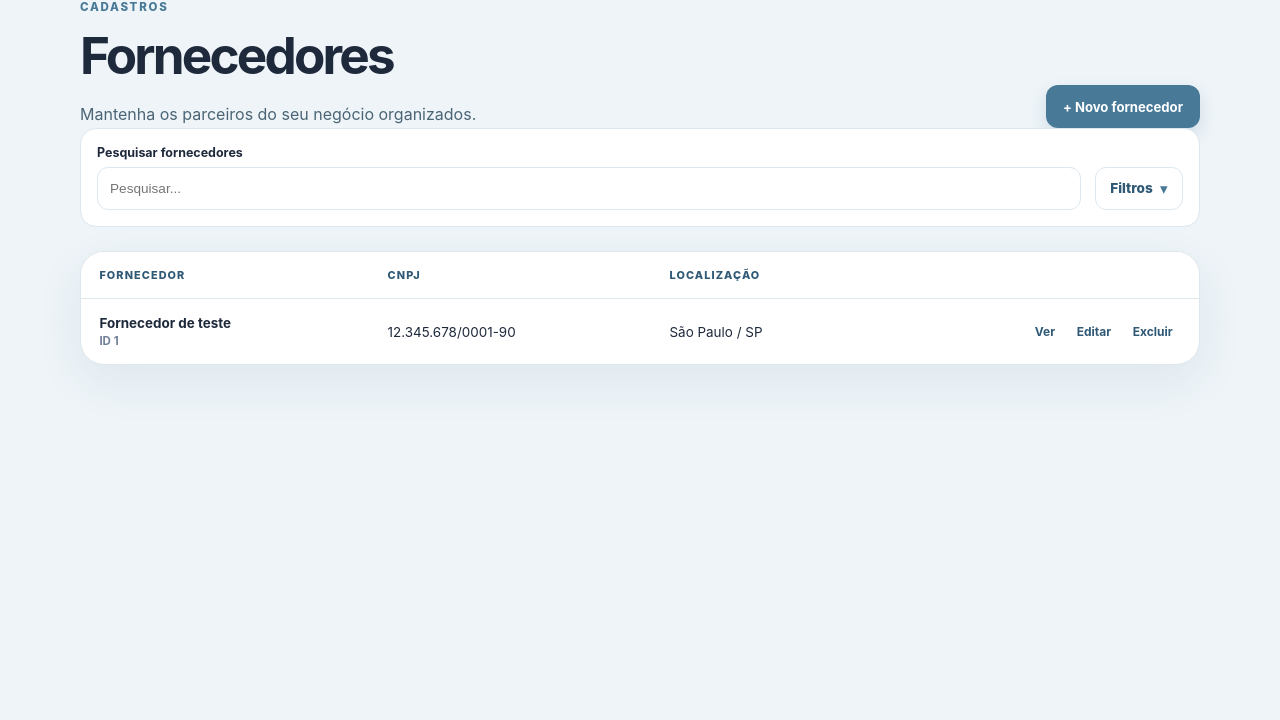
it: SuppliersPage relational details › shows an explicit empty state when the supplier has no products
Expected: the text "Fornecedor de teste" is shown, [99,315,231,331]
Click the button "Ver" at {"x": 1045, "y": 332}, box [1027,318,1063,345]
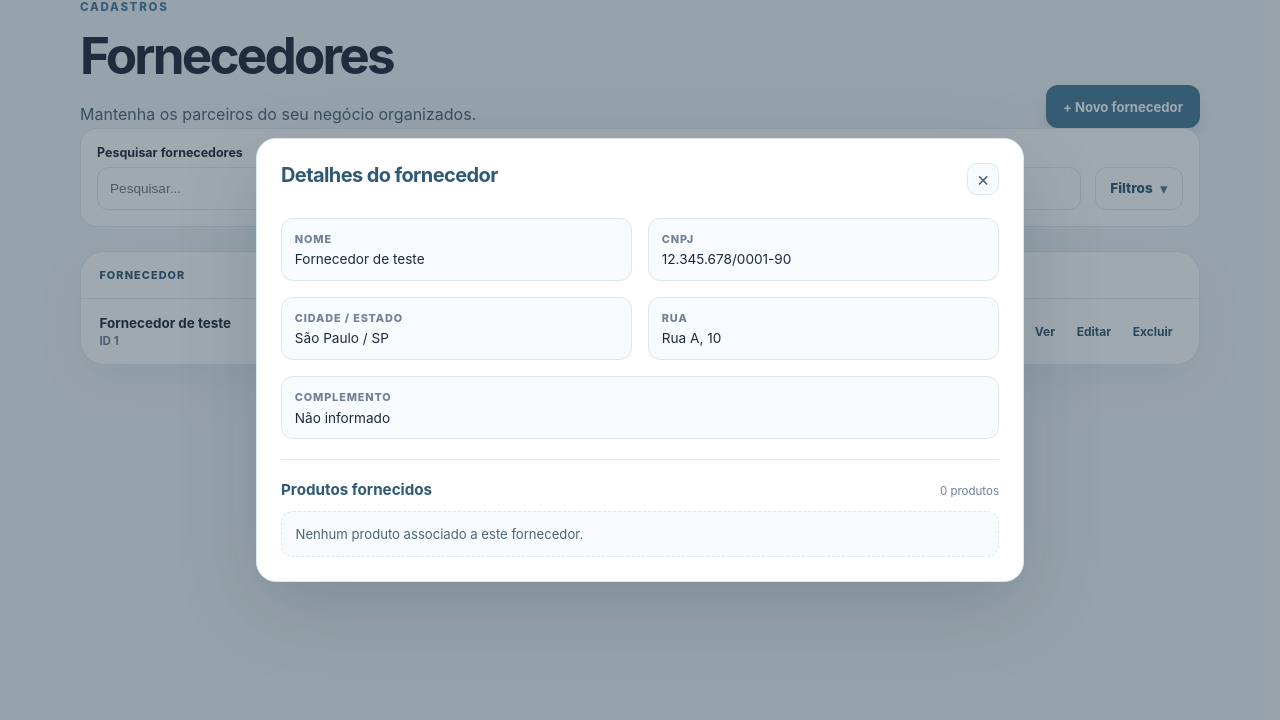
Result: the text "Nenhum produto associado a este fornecedor." is shown at [281,511,999,557]
